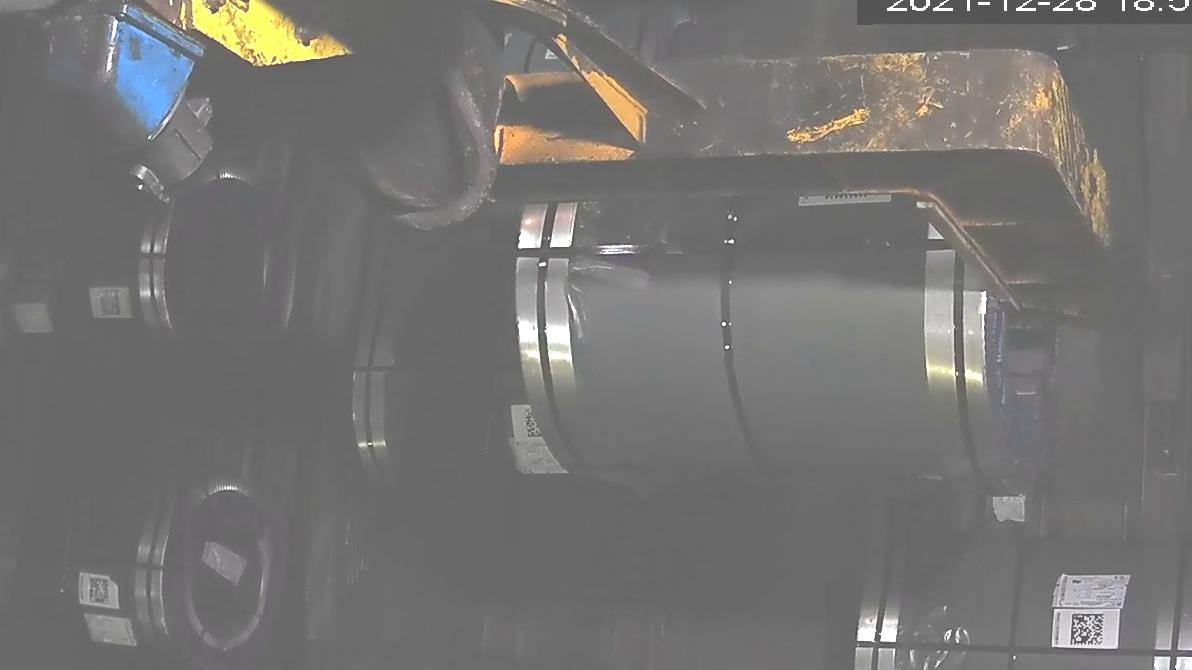data matrix: (1069, 612, 1108, 649), (95, 287, 128, 320), (86, 576, 113, 609)
